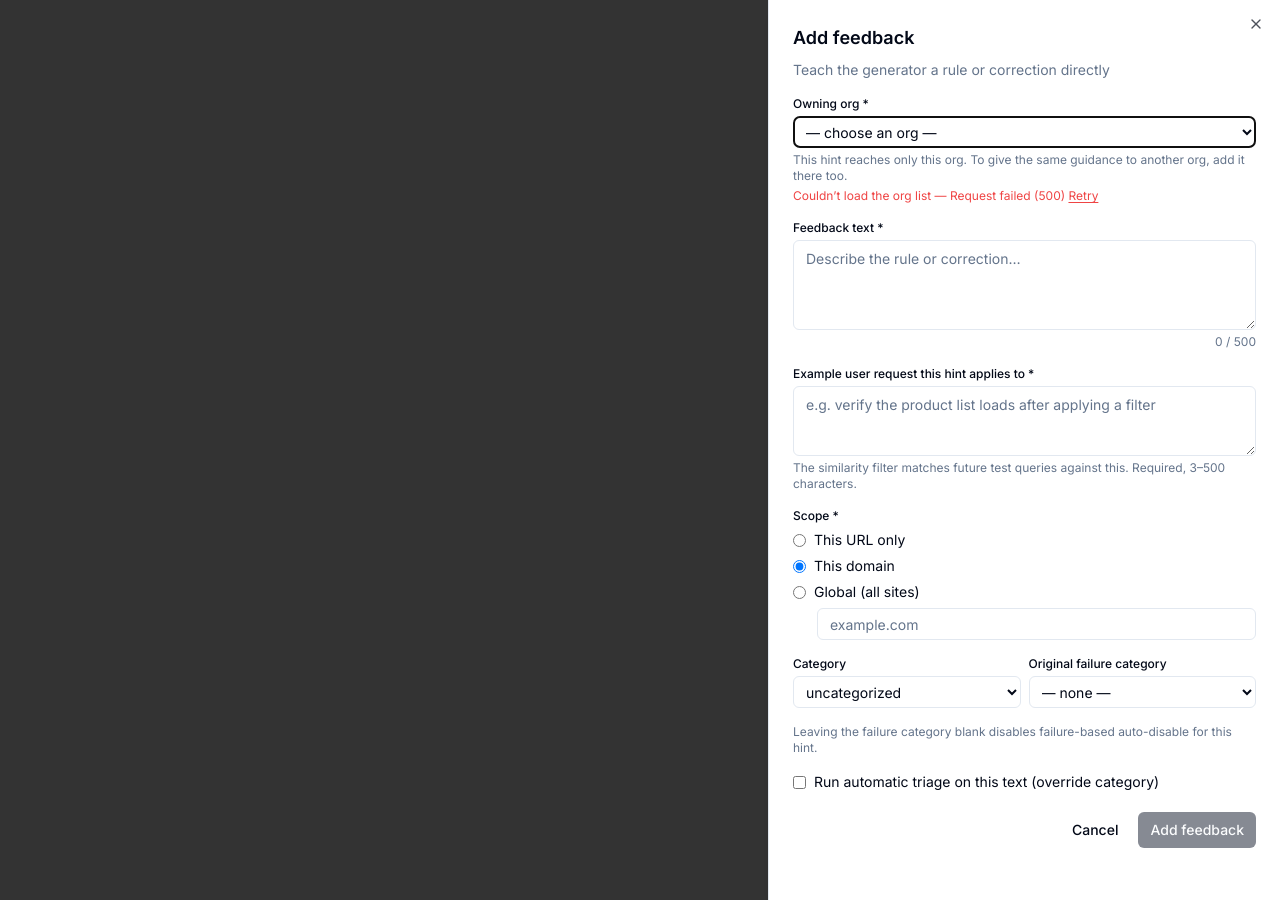
Test: when the org directory fails to load › lets the admin finish the form once the retry succeeds
The image size is (1280, 900).
Expected: the text "Couldn’t load the org list — Request failed (500) Retry" is shown, x1=793 y1=188 x2=1098 y2=204
Type "wait for the grid before reading a row" into the text box with placeholder "Describe the rule or correction…".
click(1024, 285); type("wait for the grid before reading a row")  # box x1=793 y1=240 x2=1256 y2=330
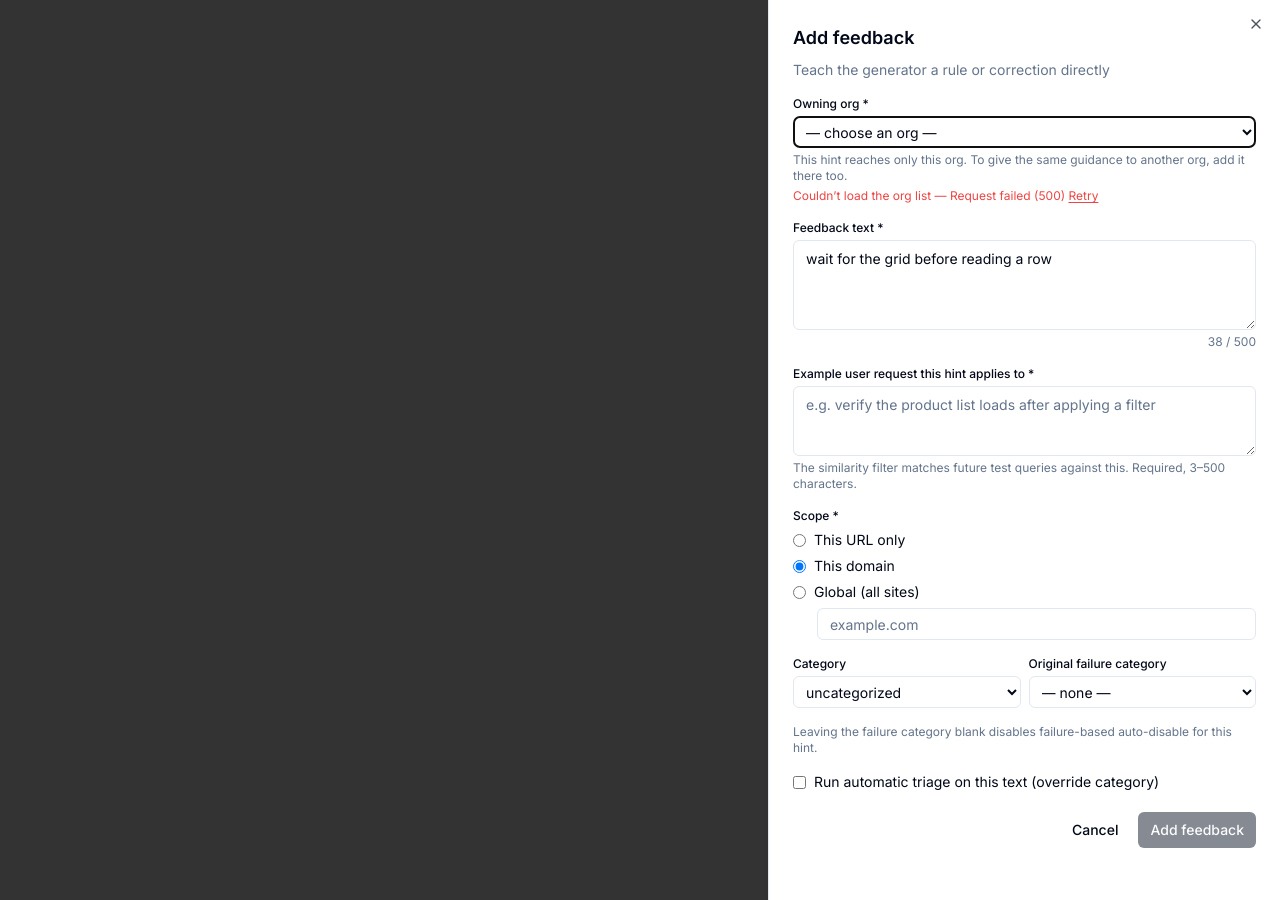
Type "check the first result after filtering" into the text box with placeholder "e.g. verify the product list loads after applying a filter".
click(1024, 421); type("check the first result after filtering")  # box x1=793 y1=386 x2=1256 y2=456
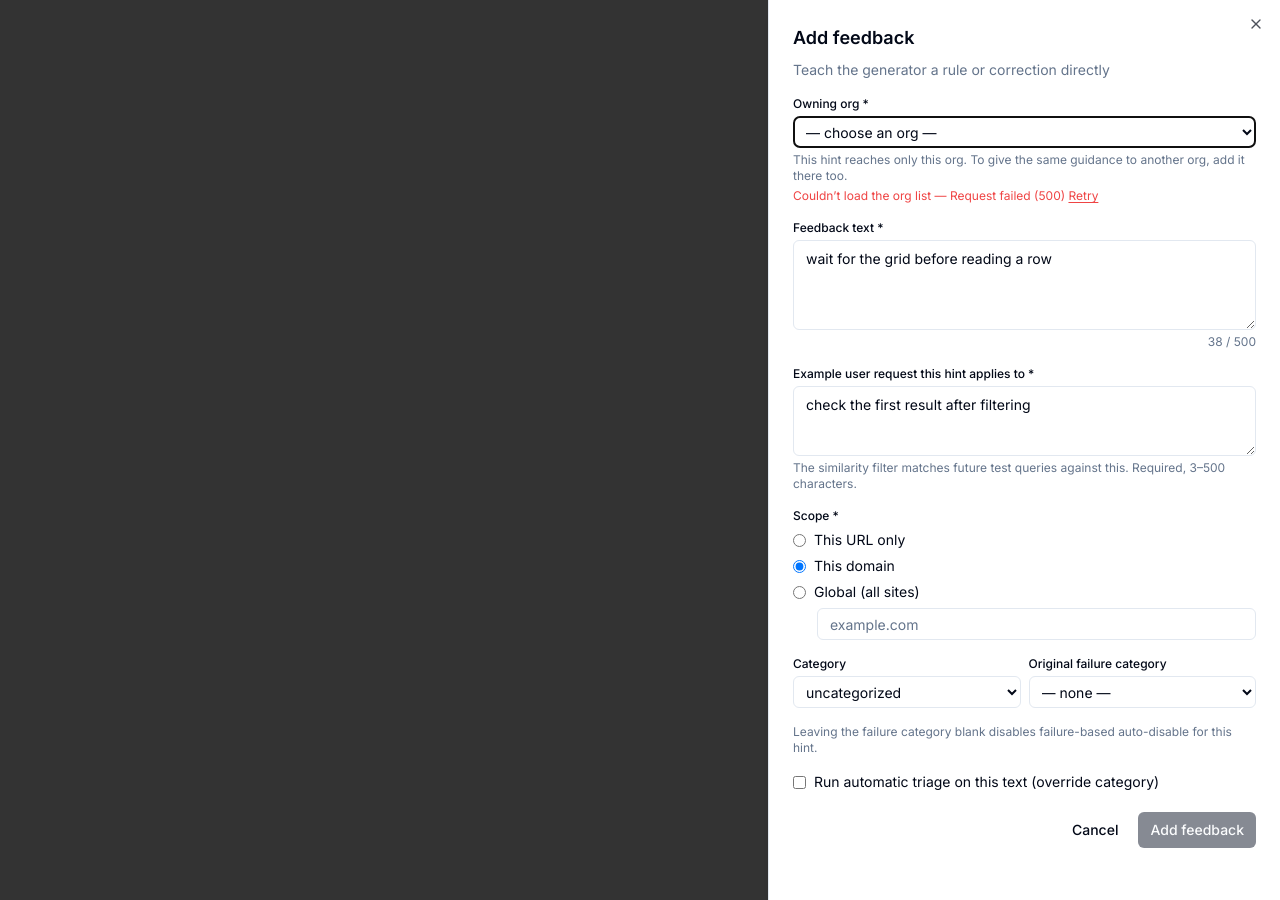
Type "shop.example.com" into the field with placeholder "example.com".
click(1036, 624); type("shop.example.com")  # box x1=817 y1=608 x2=1256 y2=640
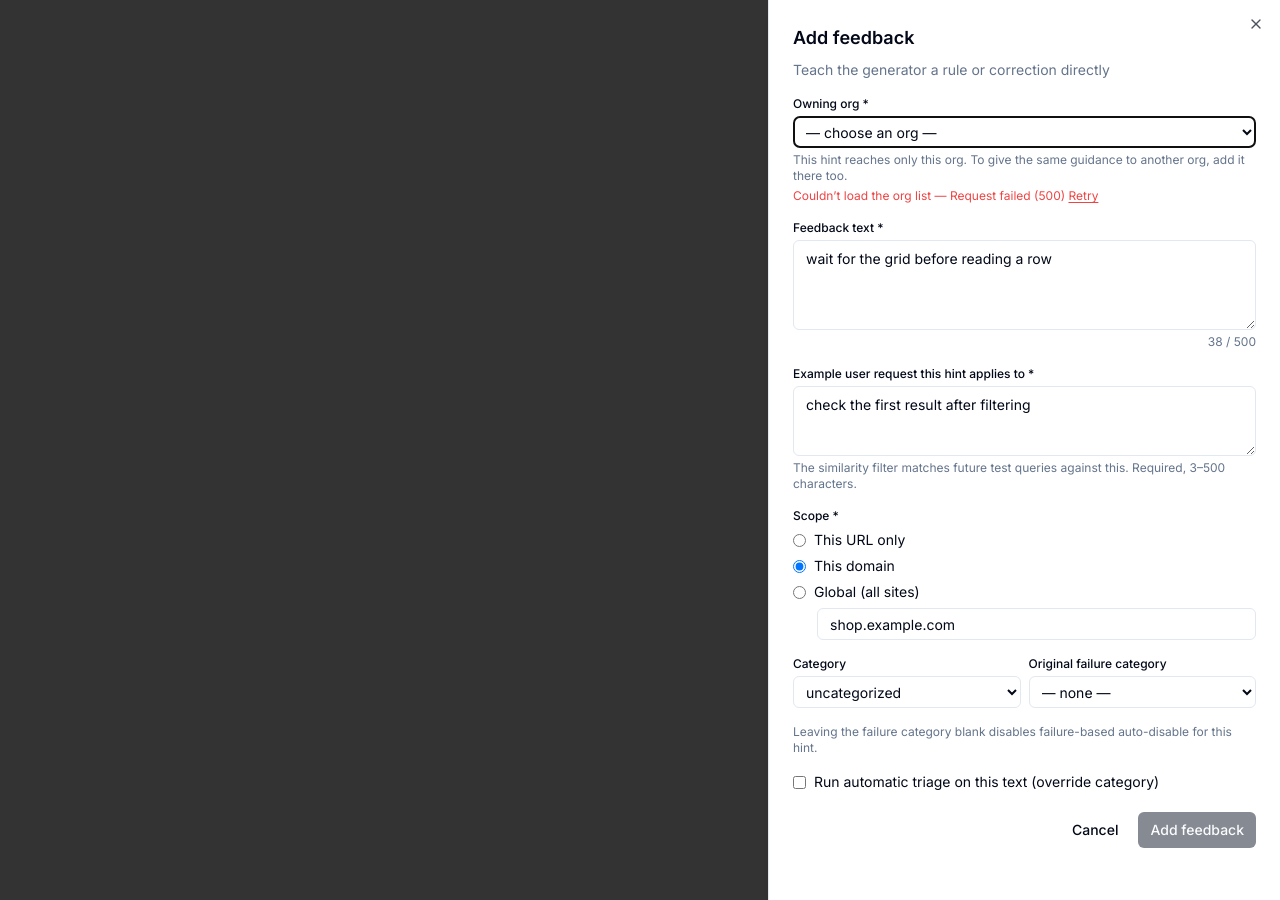
Expected: the button "Add feedback" is disabled, x1=1138 y1=812 x2=1256 y2=848
Click the button "Retry".
click(1083, 196)  # box x1=1068 y1=188 x2=1098 y2=204
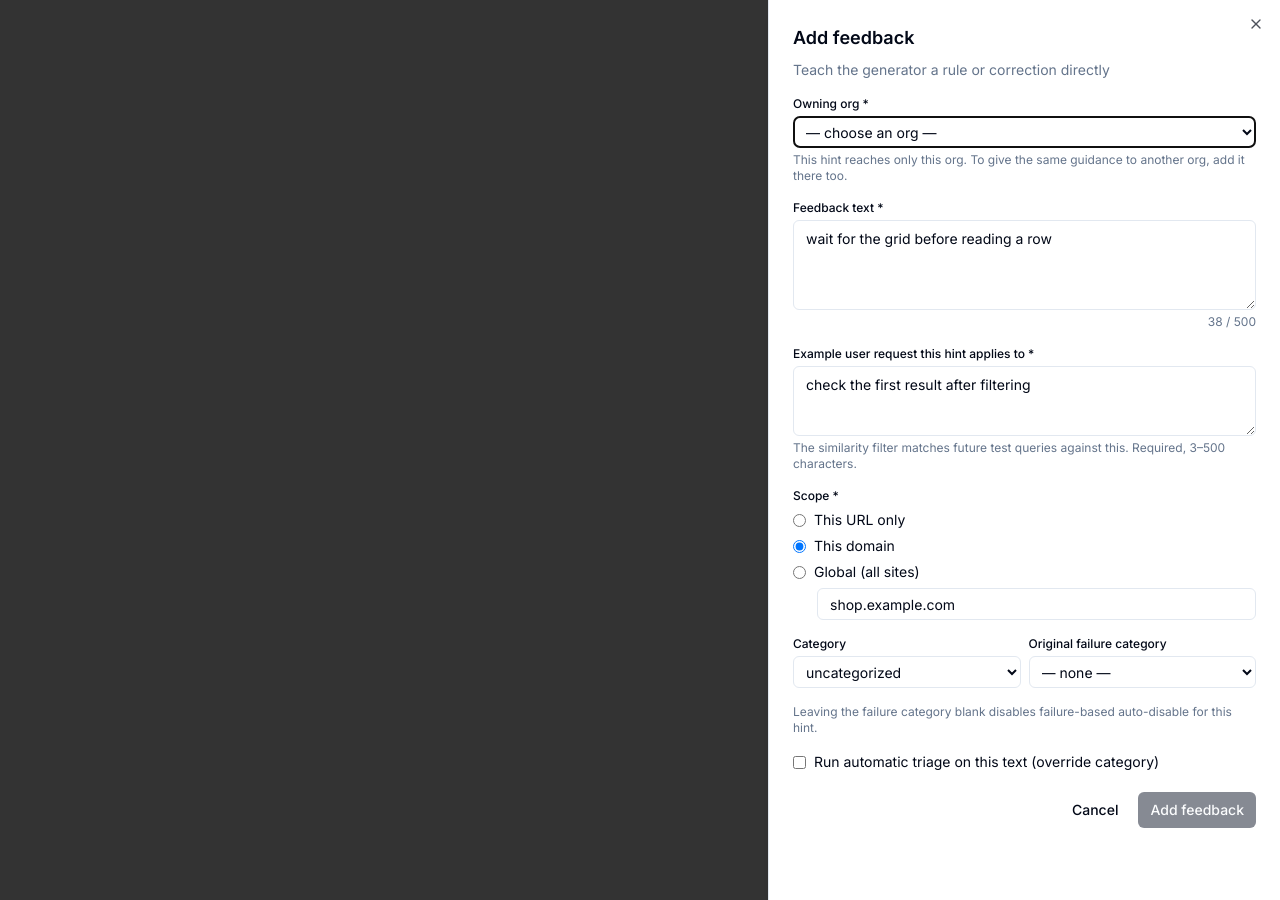
Select "Org A" in the dropdown below "Owning org *" at (1024, 132), box x1=793 y1=116 x2=1256 y2=148
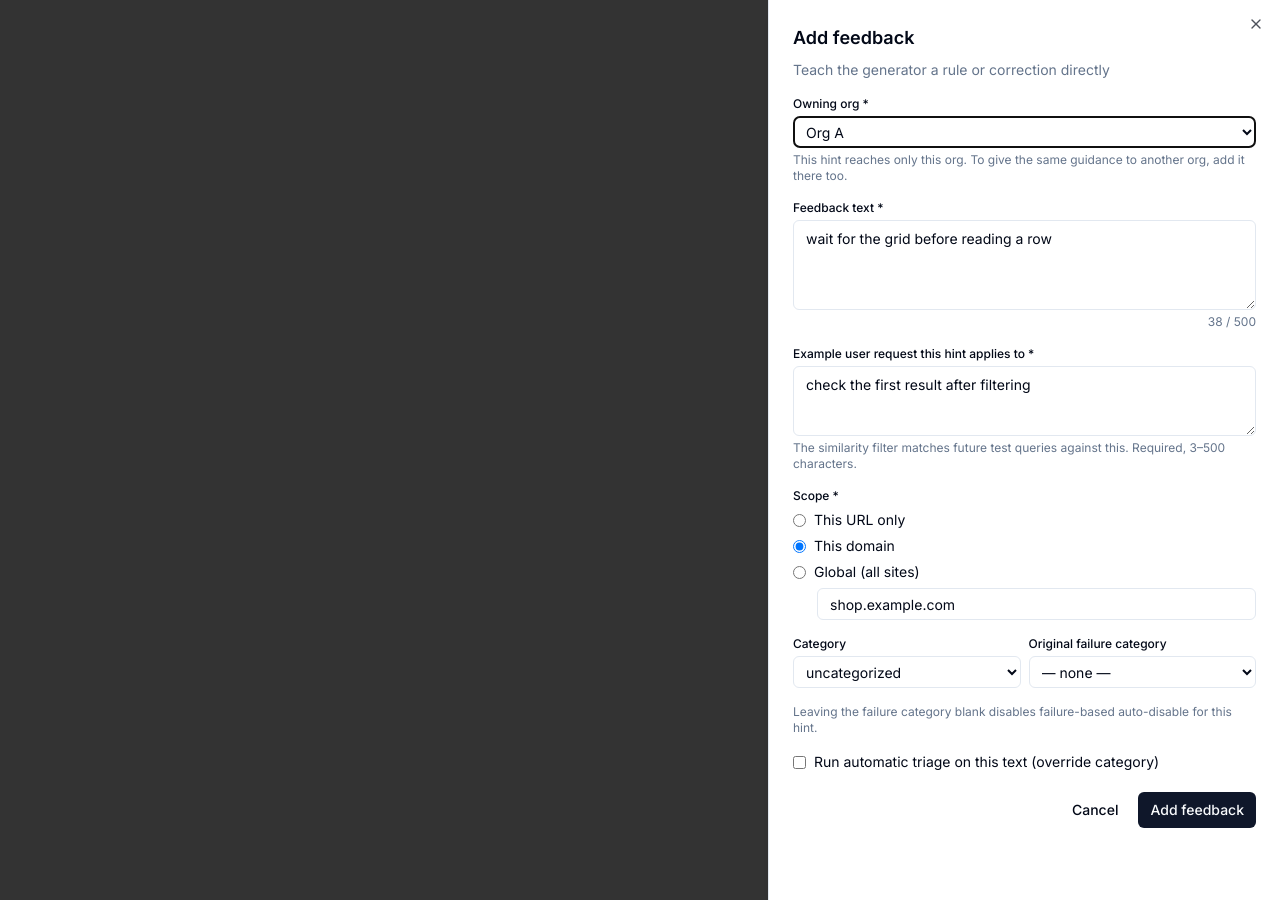
Now the button "Add feedback" is enabled, box x1=1138 y1=792 x2=1256 y2=828
